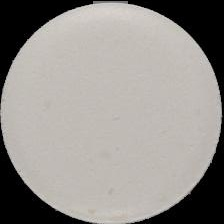55289-074: (0, 0, 224, 224)
